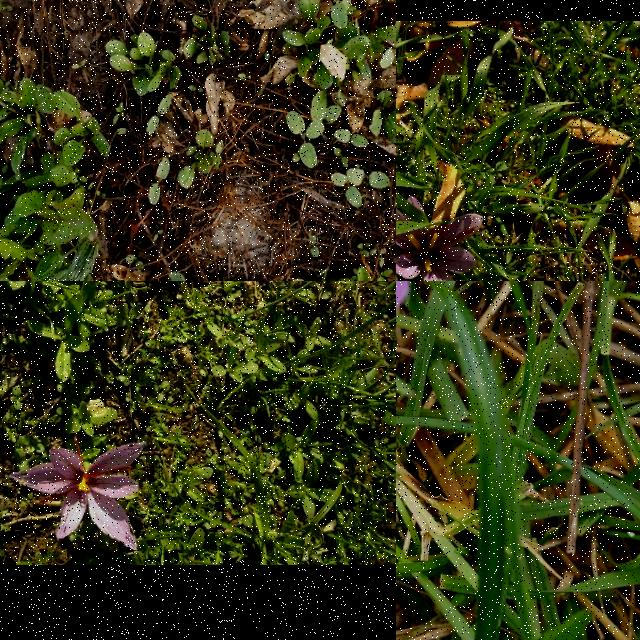flower: (9, 435, 145, 553), (396, 195, 484, 281)
